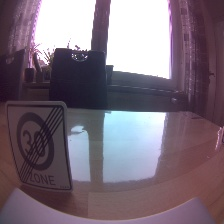dreisiger_zone_ende: (4, 100, 75, 193)
